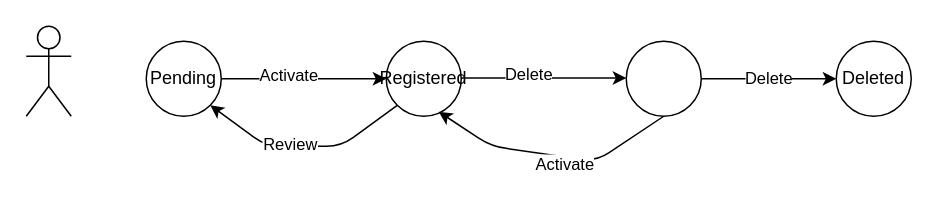
Image size: 938x200. Some labels were removed from this diagram. Here are the shapes that lost their labels. From the top down, the centre of each, then its label:
At [48,70]: "Actor".
At [663,78]: "Withdraw".
